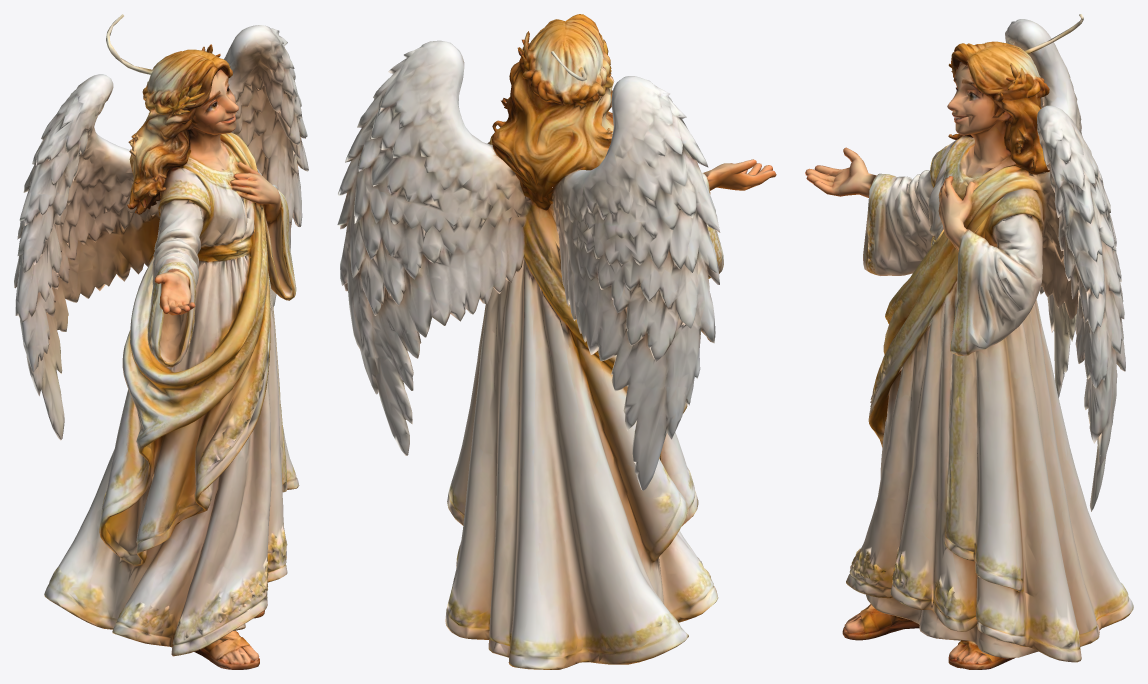
File: angel.glb
3 views of the same model, side by side, from view 1: azimuth 30°, elevation 25°; view 2: azimuth 150°, elevation 25°; view 3: azimuth 270°, elevation 25° (orthographic). The views are drawn at different scales.
Parts seen in each view (by area): view 1: tripo_node_e9d7bdc9-bfad-42f2-841f-35962c0b71fc; view 2: tripo_node_e9d7bdc9-bfad-42f2-841f-35962c0b71fc; view 3: tripo_node_e9d7bdc9-bfad-42f2-841f-35962c0b71fc.
Boxes of the visible parts, x1=… form: tripo_node_e9d7bdc9-bfad-42f2-841f-35962c0b71fc: x1=14, y1=14, x2=308, y2=669; tripo_node_e9d7bdc9-bfad-42f2-841f-35962c0b71fc: x1=337, y1=14, x2=776, y2=669; tripo_node_e9d7bdc9-bfad-42f2-841f-35962c0b71fc: x1=805, y1=14, x2=1133, y2=669.
Size of the model in its own units: 0.5702 by 0.9777 by 0.4756.
Materials: 1 (1 with a texture image).
